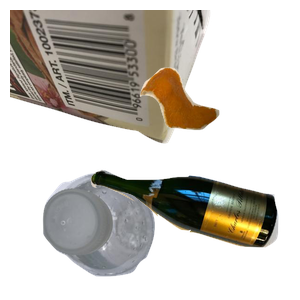cardboard: (10, 10, 213, 146)
glass: (88, 167, 300, 300)
plastic: (40, 170, 187, 300)
trash: (137, 65, 300, 188)
